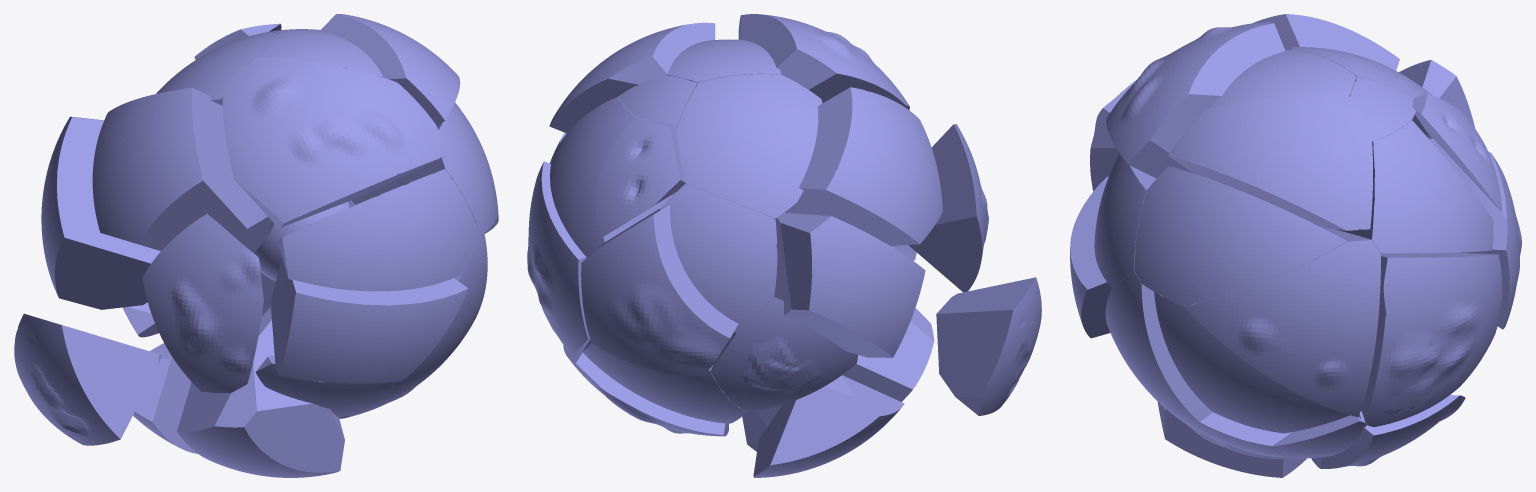
File: Planet3.glb
The picture shows the model from 3 angles, left to right: view 1: azimuth 30°, elevation 25°; view 2: azimuth 150°, elevation 25°; view 3: azimuth 270°, elevation 25°; orthographic projection. The views are drawn at different scales.
Visible parts, largest first — view 1: Quad Sphere_cell.025, Quad Sphere_cell.016, Quad Sphere_cell.030, Quad Sphere_cell.022, Quad Sphere_cell.029, Quad Sphere_cell.027, Quad Sphere_cell.003, Quad Sphere_cell.010, Quad Sphere_cell.019, Quad Sphere_cell.004, Quad Sphere_cell.001, Quad Sphere_cell.015 (+6 smaller); view 2: Quad Sphere_cell.016, Quad Sphere_cell.009, Quad Sphere_cell.018, Quad Sphere_cell.010, Quad Sphere_cell.008, Quad Sphere_cell.003, Quad Sphere_cell.013, Quad Sphere_cell.021, Quad Sphere_cell.025, Quad Sphere_cell.017, Quad Sphere_cell.029, Quad Sphere_cell.006 (+7 smaller); view 3: Quad Sphere_cell.028, Quad Sphere_cell.019, Quad Sphere_cell.011, Quad Sphere_cell.004, Quad Sphere_cell.025, Quad Sphere_cell.017, Quad Sphere_cell.032, Quad Sphere_cell.001, Quad Sphere_cell.030, Quad Sphere_cell.005, Quad Sphere_cell.006, Quad Sphere_cell.022 (+10 smaller).
Boxes of the visible parts, box(x1,y1,x2,y2) form: Quad Sphere_cell.025: box(222, 56, 447, 227); Quad Sphere_cell.016: box(92, 87, 274, 252); Quad Sphere_cell.030: box(278, 169, 478, 291); Quad Sphere_cell.022: box(271, 257, 468, 383); Quad Sphere_cell.029: box(142, 213, 263, 392); Quad Sphere_cell.027: box(177, 305, 344, 477); Quad Sphere_cell.003: box(14, 313, 160, 445); Quad Sphere_cell.010: box(41, 116, 160, 309); Quad Sphere_cell.019: box(320, 14, 460, 125); Quad Sphere_cell.004: box(351, 102, 497, 232); Quad Sphere_cell.001: box(383, 230, 487, 401); Quad Sphere_cell.015: box(255, 355, 393, 417); Quad Sphere_cell.016: box(784, 87, 942, 245); Quad Sphere_cell.009: box(581, 204, 738, 375); Quad Sphere_cell.018: box(676, 74, 822, 218); Quad Sphere_cell.010: box(774, 212, 925, 357); Quad Sphere_cell.008: box(660, 183, 777, 332); Quad Sphere_cell.003: box(936, 277, 1041, 415); Quad Sphere_cell.013: box(710, 297, 857, 412); Quad Sphere_cell.021: box(753, 375, 904, 477); Quad Sphere_cell.025: box(738, 14, 909, 109); Quad Sphere_cell.017: box(550, 97, 676, 257); Quad Sphere_cell.029: box(908, 124, 988, 292); Quad Sphere_cell.006: box(595, 117, 686, 238); Quad Sphere_cell.028: box(1183, 227, 1380, 416); Quad Sphere_cell.019: box(1168, 91, 1372, 230); Quad Sphere_cell.011: box(1361, 252, 1502, 426); Quad Sphere_cell.004: box(1134, 166, 1347, 305); Quad Sphere_cell.025: box(1106, 21, 1285, 178); Quad Sphere_cell.017: box(1334, 120, 1493, 253); Quad Sphere_cell.032: box(1154, 292, 1361, 433); Quad Sphere_cell.001: box(1105, 271, 1212, 421); Quad Sphere_cell.030: box(1094, 154, 1156, 287); Quad Sphere_cell.005: box(1212, 49, 1356, 107); Quad Sphere_cell.006: box(1412, 93, 1501, 212); Quad Sphere_cell.022: box(1070, 176, 1112, 338).
Bounding box in the file's own units: 10.97 × 9.56 × 9.03.
